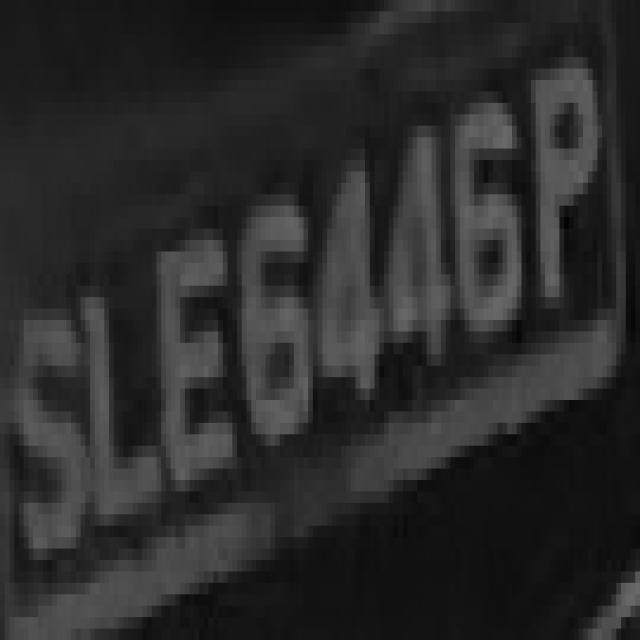4: (299, 126, 379, 457), (370, 69, 446, 412)
6: (446, 68, 526, 343), (237, 194, 308, 469)
E: (156, 206, 232, 514)
L: (76, 263, 166, 537)
P: (517, 34, 602, 343)
S: (0, 274, 85, 559)
